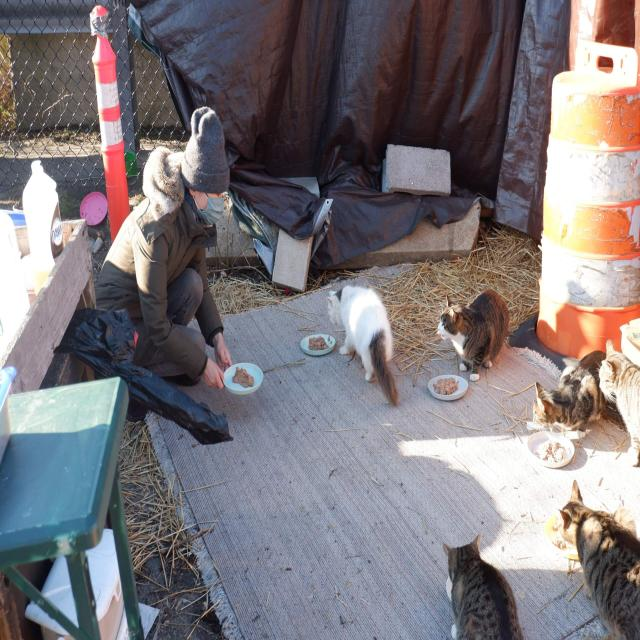cat: (549, 482, 640, 639), (532, 343, 640, 465), (329, 287, 398, 405), (445, 536, 521, 639), (438, 291, 509, 381), (526, 433, 561, 467)
